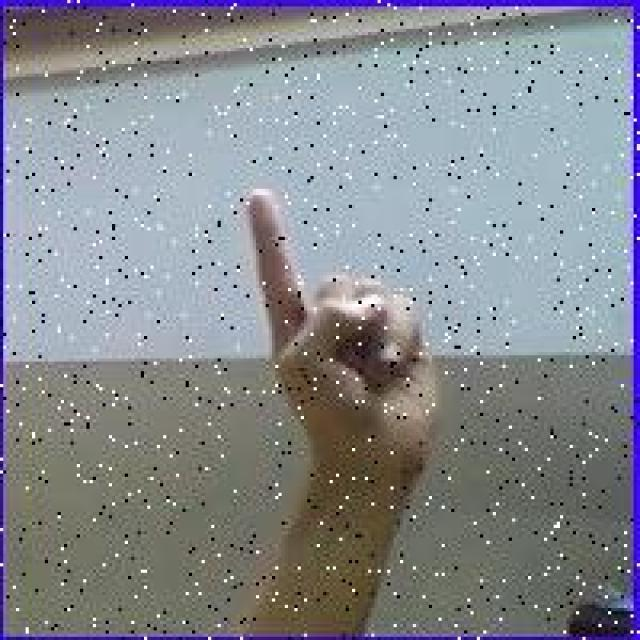Z: (245, 184, 453, 491)
